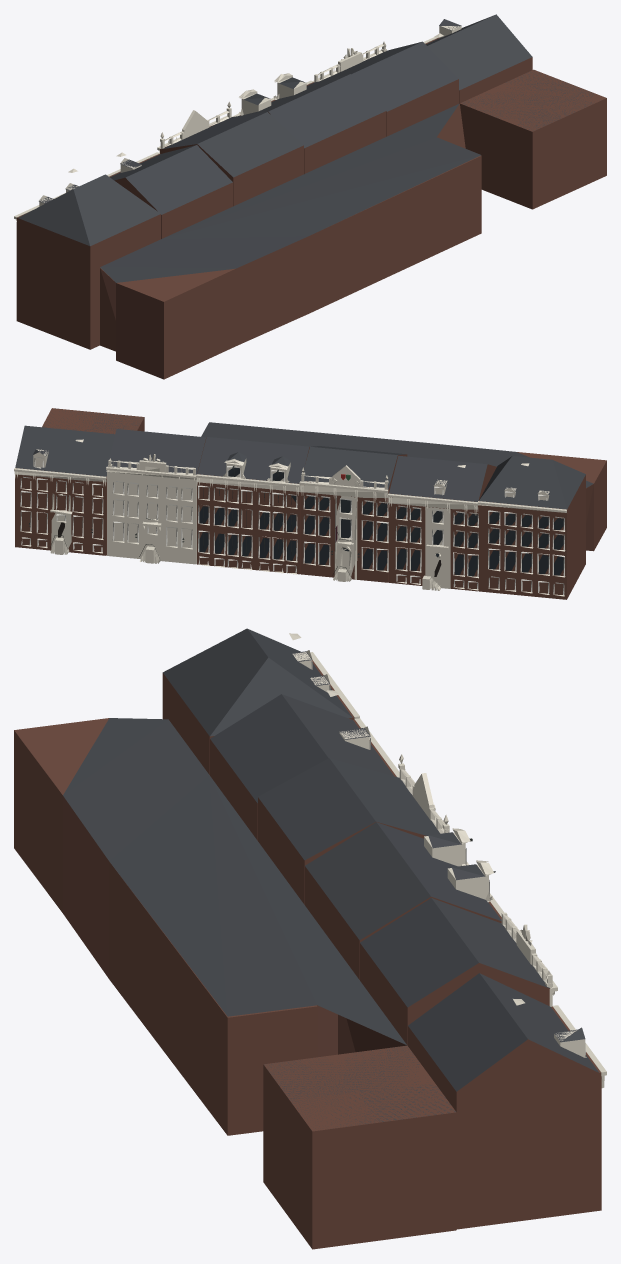
The model's file is waldorf-astoria-herengracht.lod1.glb.
The picture shows the model from 3 angles, top to bottom: view 1: azimuth 30°, elevation 25°; view 2: azimuth 150°, elevation 25°; view 3: azimuth 270°, elevation 25°; orthographic projection. The views are drawn at different scales.
Visible parts, largest first — view 1: waldorf-astoria-herengracht; view 2: waldorf-astoria-herengracht; view 3: waldorf-astoria-herengracht.
Part boxes in pixels (bbox=[...]): waldorf-astoria-herengracht: bbox=[14, 14, 606, 379]; waldorf-astoria-herengracht: bbox=[14, 408, 606, 599]; waldorf-astoria-herengracht: bbox=[14, 628, 606, 1249].
Bounding box in the file's own units: 95.86 × 21.75 × 54.64.
